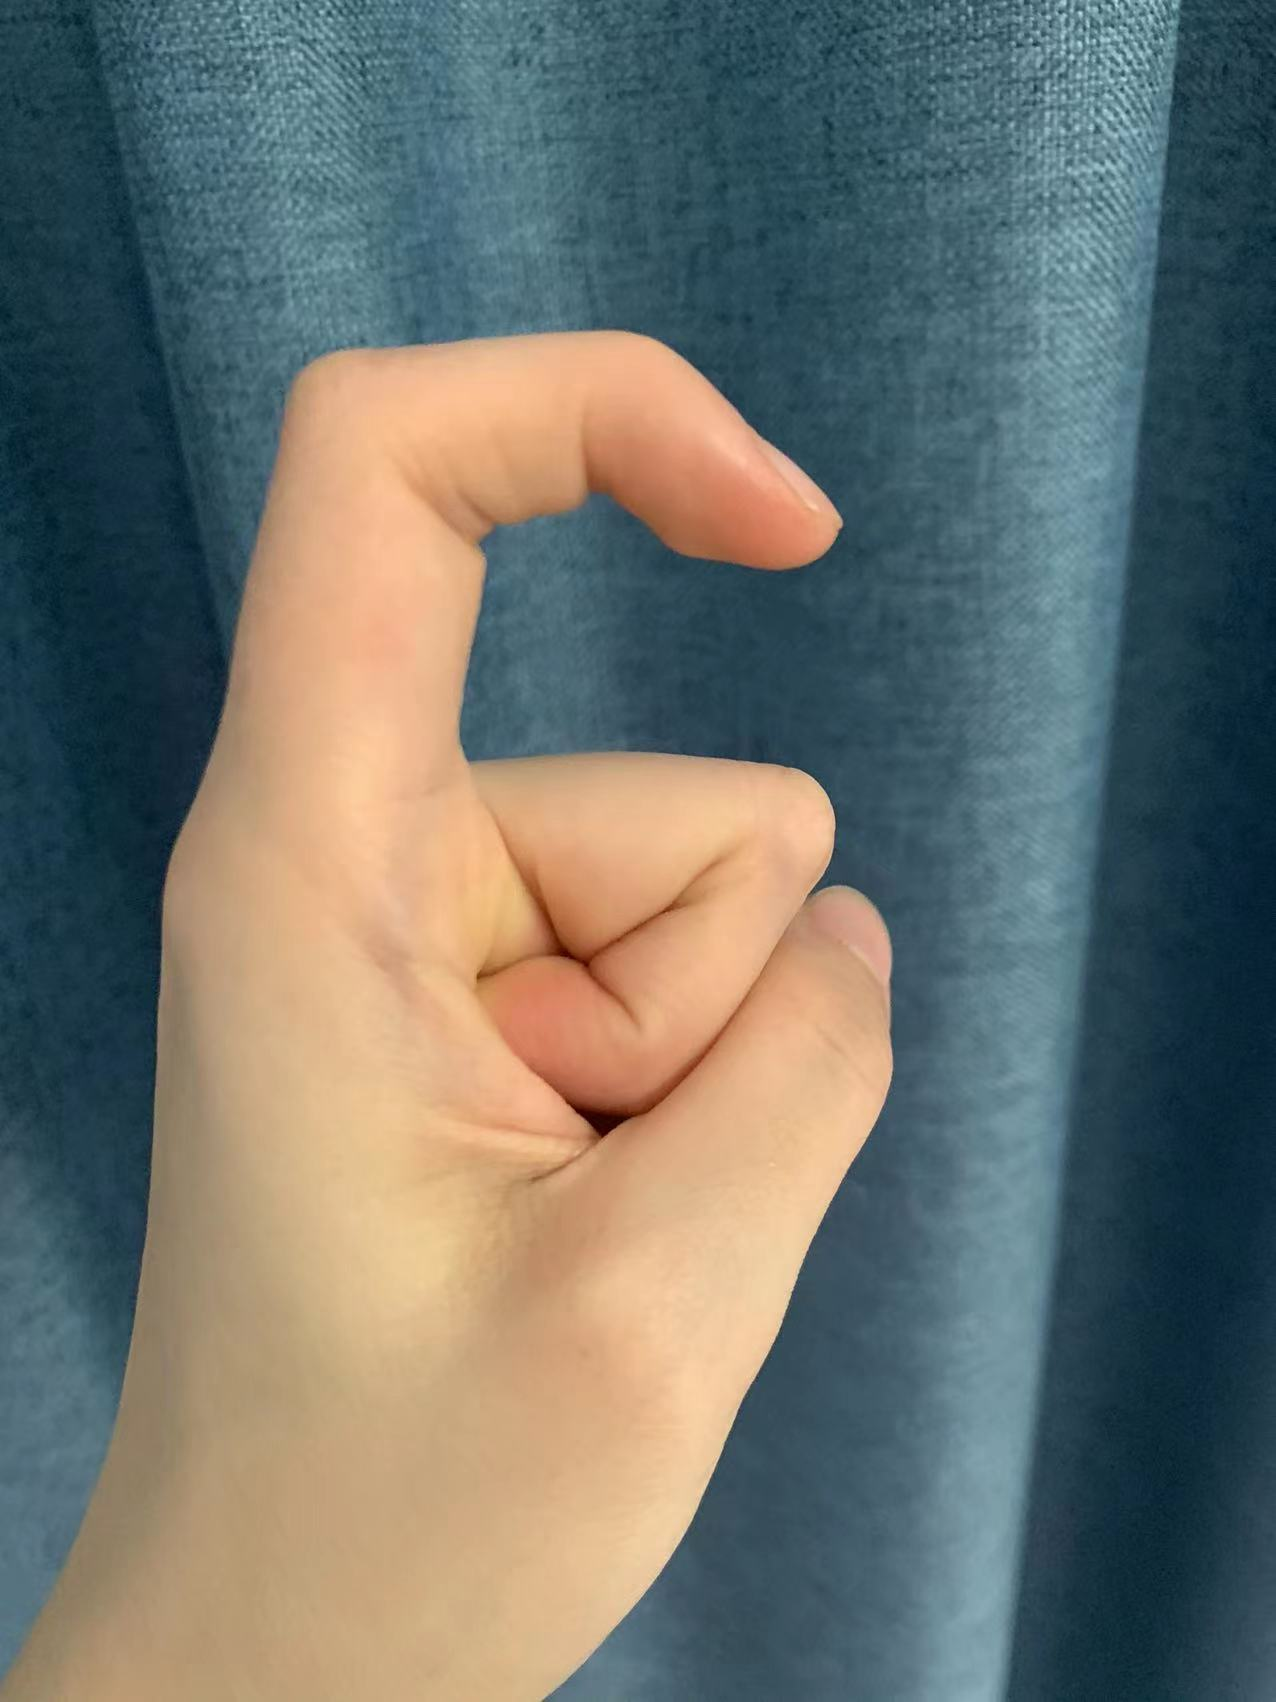anticlockwise: (72, 328, 919, 1573)
